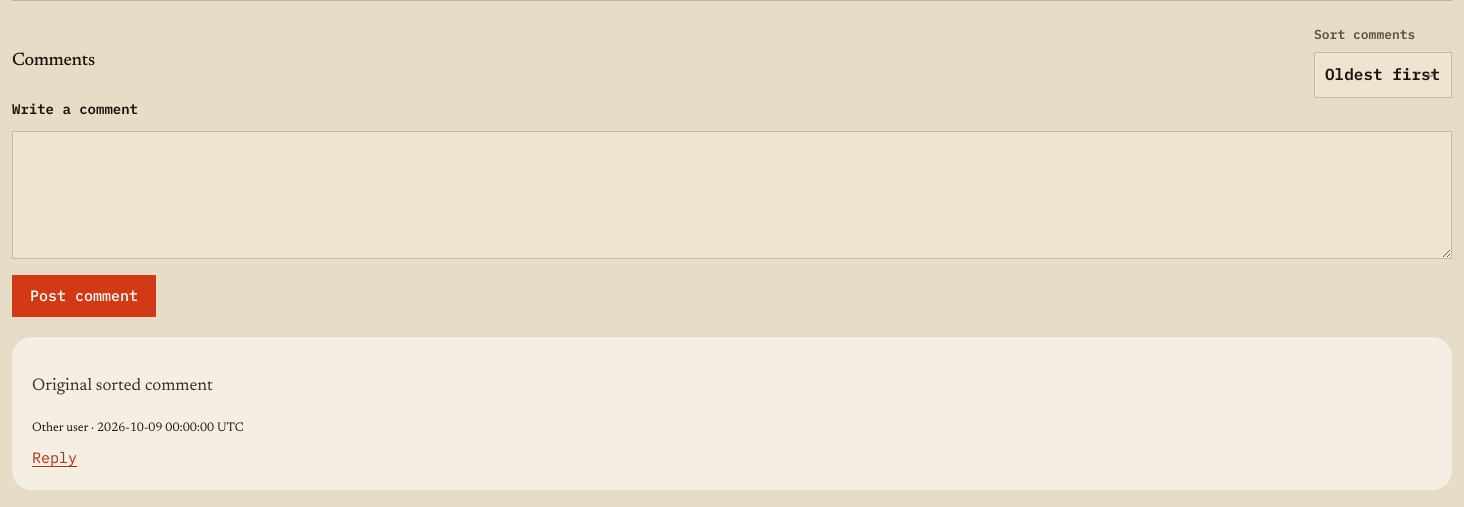
Test case: discards an older quiet response after a sort change
Expected: the text "Original sorted comment" is shown, [32,378,213,395]
Step 1. Select "Newest first" in the dropdown labelled "Sort comments" → (1383, 75), box [1314,52,1452,98]
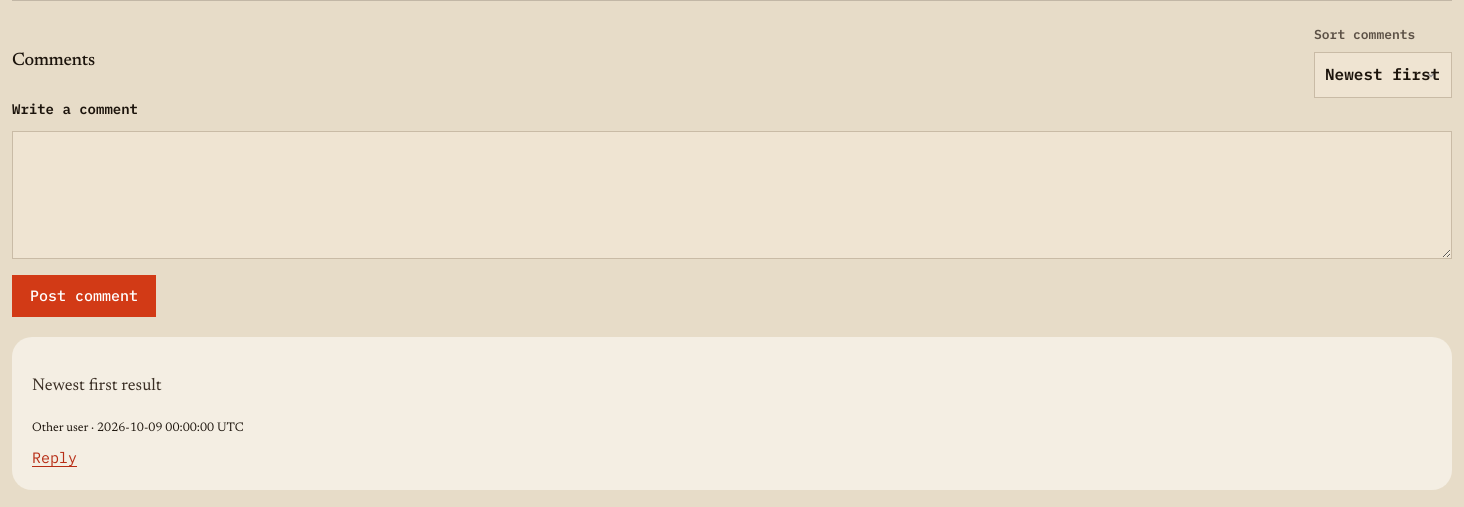
Now the text "Newest first result" is shown, box [32,378,162,395]
